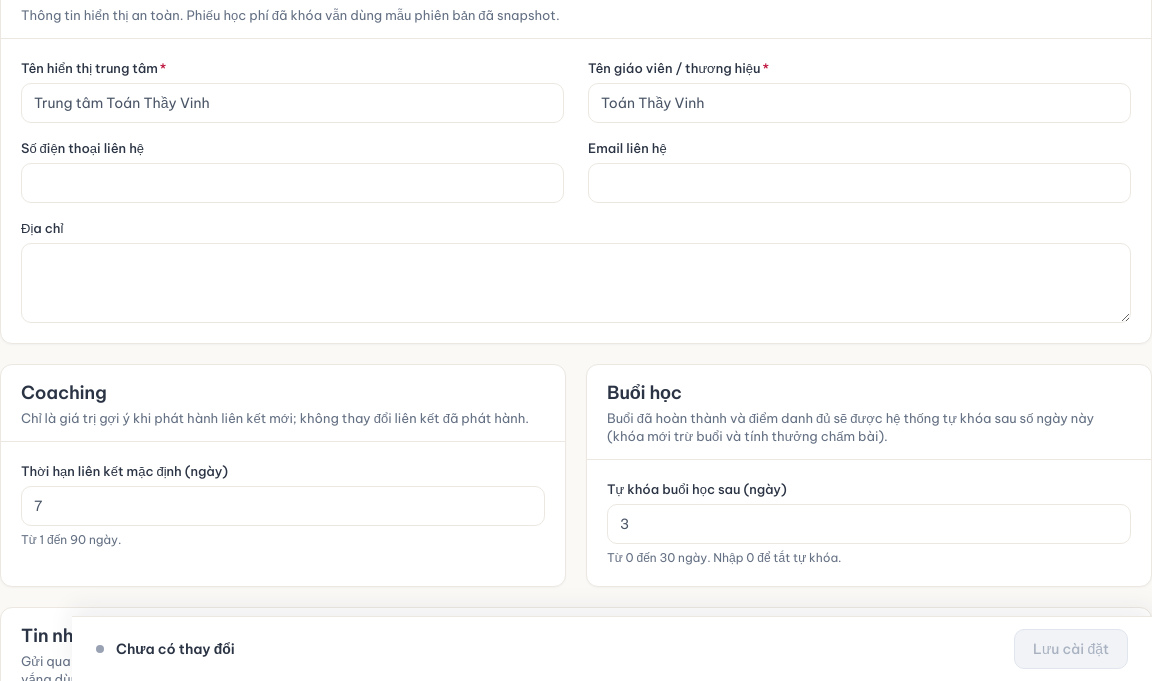
Test: SystemSettingsForm save bar › tracks changed controls, sits inside the form and restores on Hủy
Expected: the element named "Thanh lưu thay đổi" shows "Chưa có thay đổi", [116, 640, 235, 658]
Expected: the button "Lưu cài đặt" is disabled, [1014, 629, 1128, 669]
Replace the text in the field labelled "Tên hiển thị trung tâm" with "Trung tâm QA" at [292, 103], box [21, 83, 564, 123]
(page scrolled)
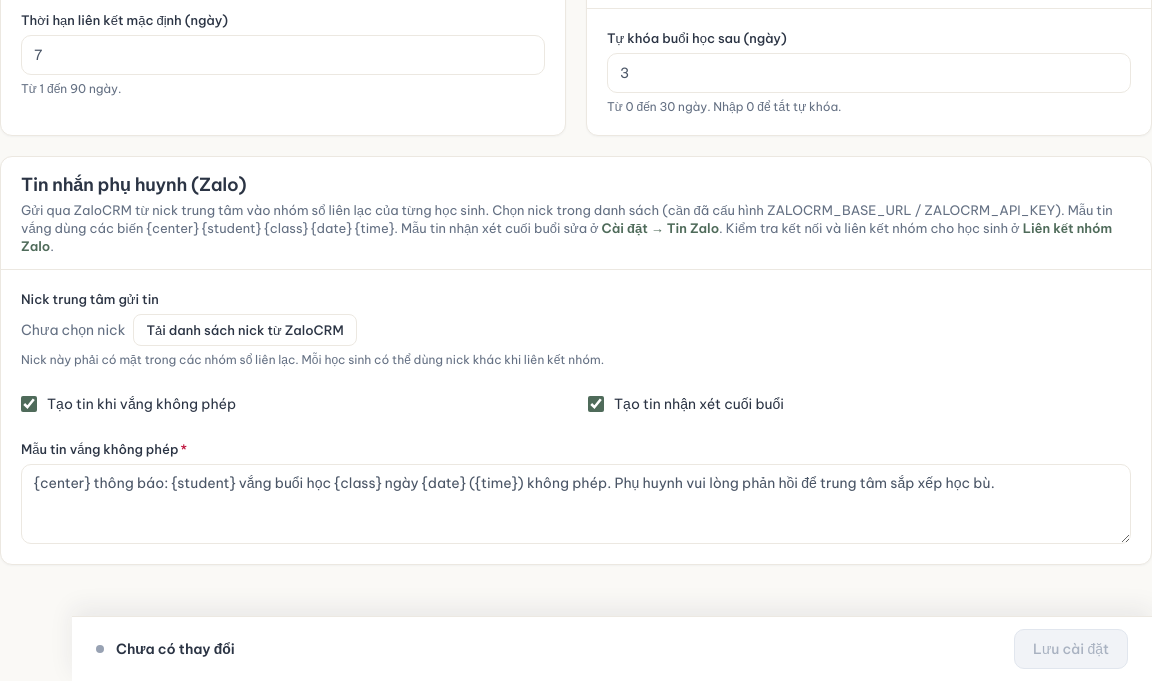
Click the checkbox labelled "Tạo tin nhận xét cuối buổi" at [596, 404], box [588, 396, 604, 412]
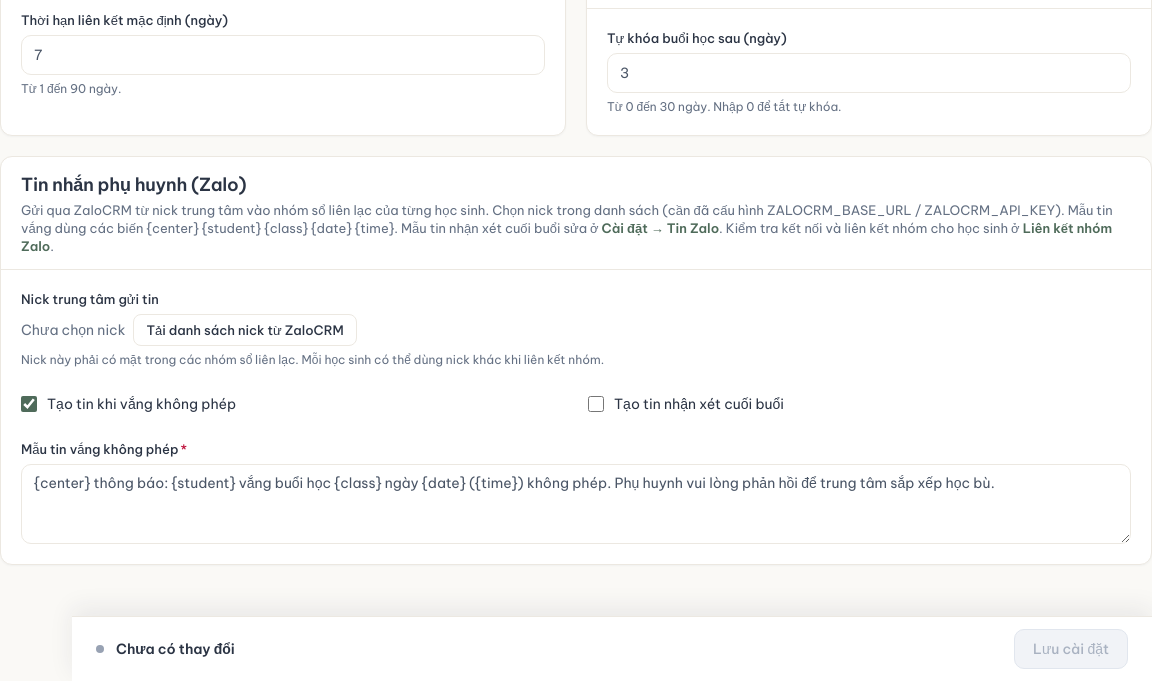
Click the button "Tải danh sách nick từ ZaloCRM" at [245, 330], box [133, 314, 357, 346]
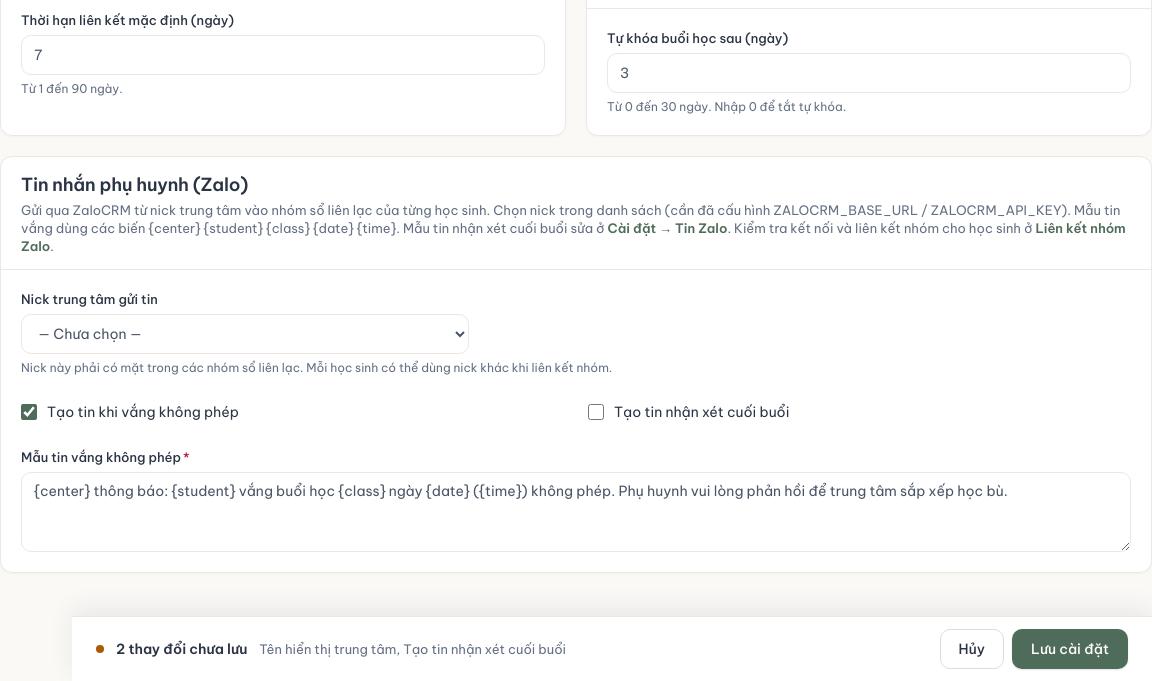
Select "Nick trung tâm (0912) · đang kết nối" in the dropdown at [245, 334], box [21, 314, 469, 354]
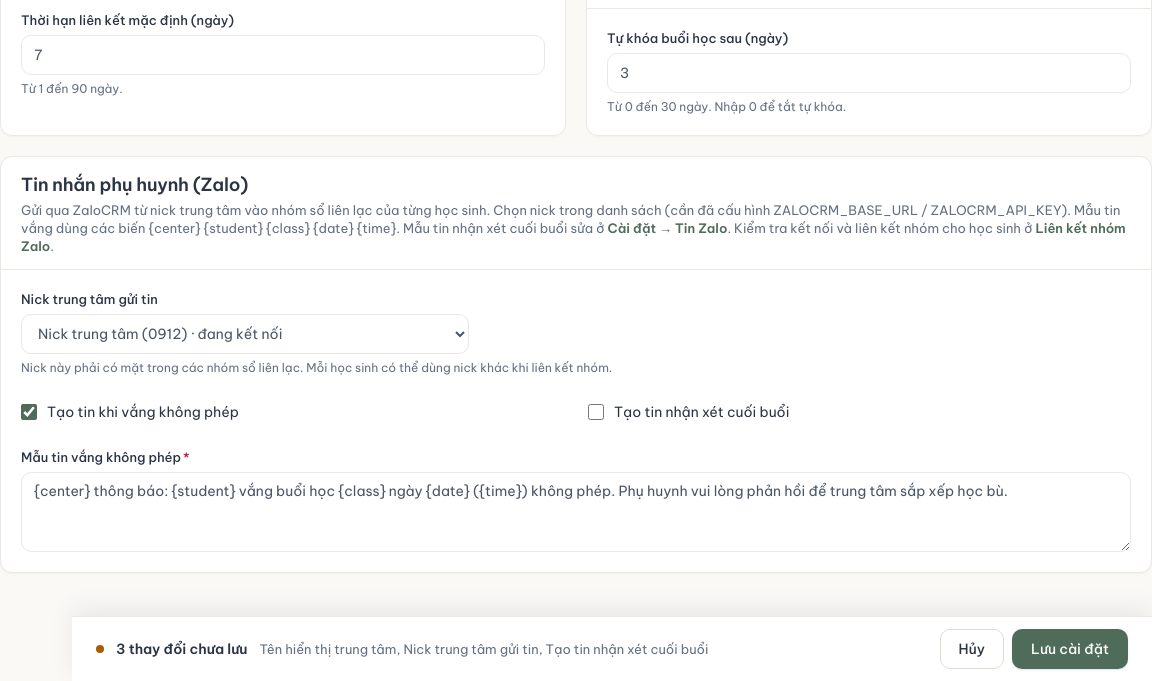
Result: the button "Lưu cài đặt" is enabled at [1012, 629, 1128, 669]
Result: the element named "Thanh lưu thay đổi" shows "3 thay đổi chưa lưu" at [116, 640, 248, 658]
Result: the element named "Thanh lưu thay đổi" shows "Tên hiển thị trung tâm, Nick trung tâm gửi tin, Tạo tin nhận xét cuối buổi" at [260, 641, 708, 657]
Click the button "Hủy" at [972, 649], box [940, 629, 1004, 669]
(page scrolled)
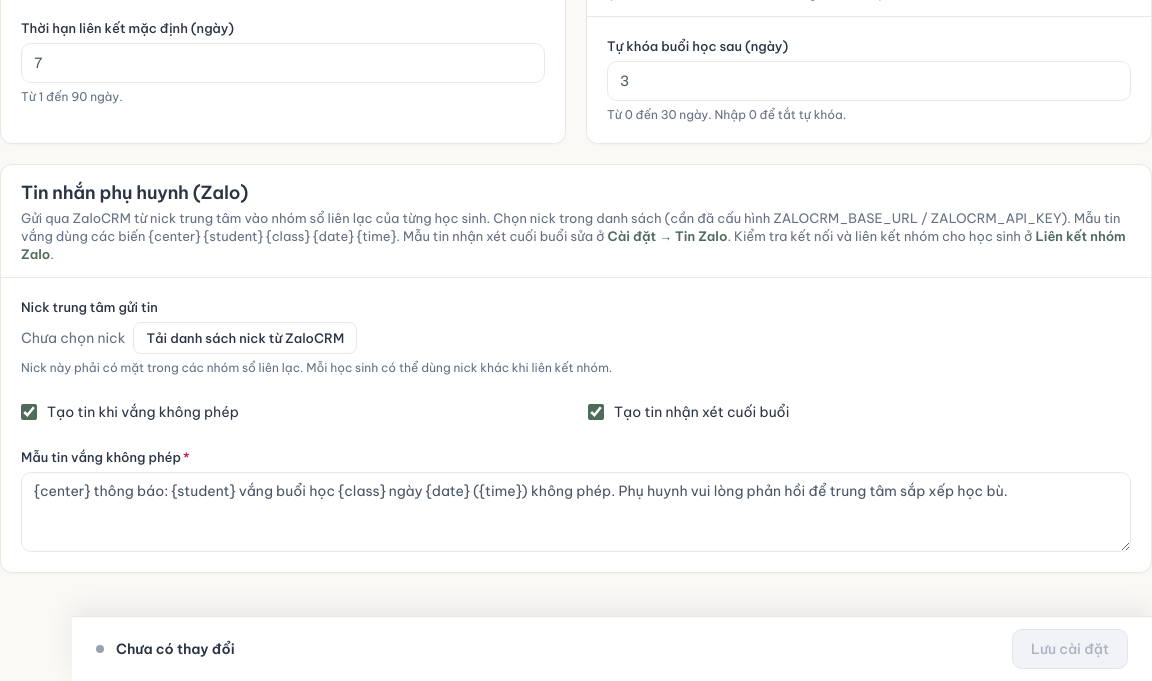
Expected: the element named "zaloCenterAccountId" is empty, [21, 299, 612, 375]
Result: the checkbox labelled "Tạo tin nhận xét cuối buổi" is checked at [588, 404, 604, 420]
Result: the element named "Thanh lưu thay đổi" shows "Chưa có thay đổi" at [116, 640, 235, 658]
